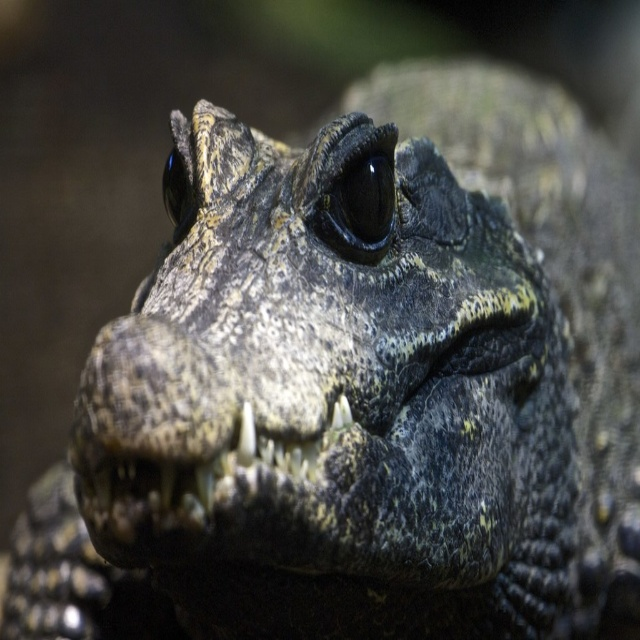Crocodile: (0, 58, 640, 639)
